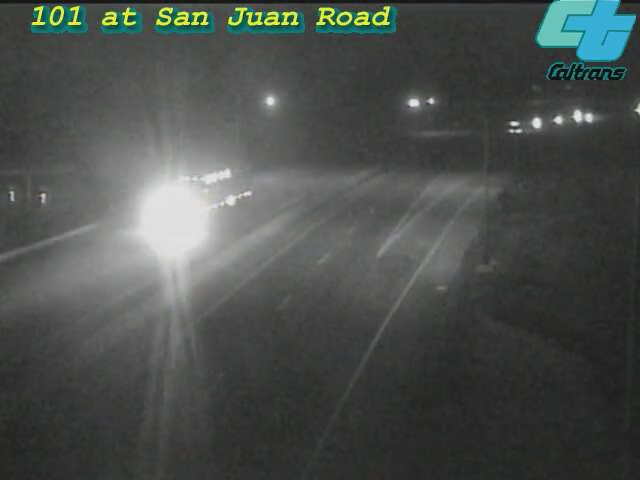vehicle: (147, 170, 227, 250), (563, 93, 613, 143), (489, 102, 539, 152), (512, 97, 562, 147), (551, 92, 601, 142), (533, 95, 583, 145)
